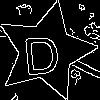D: (21, 26, 62, 76)
